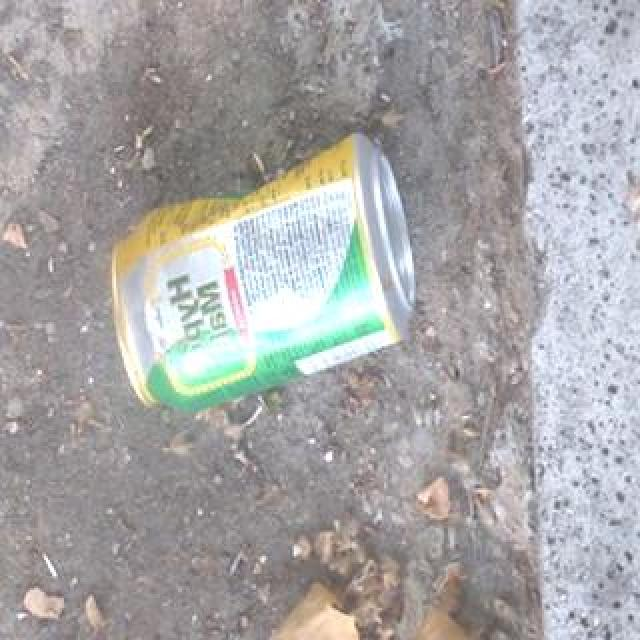Can: (102, 129, 434, 413)
